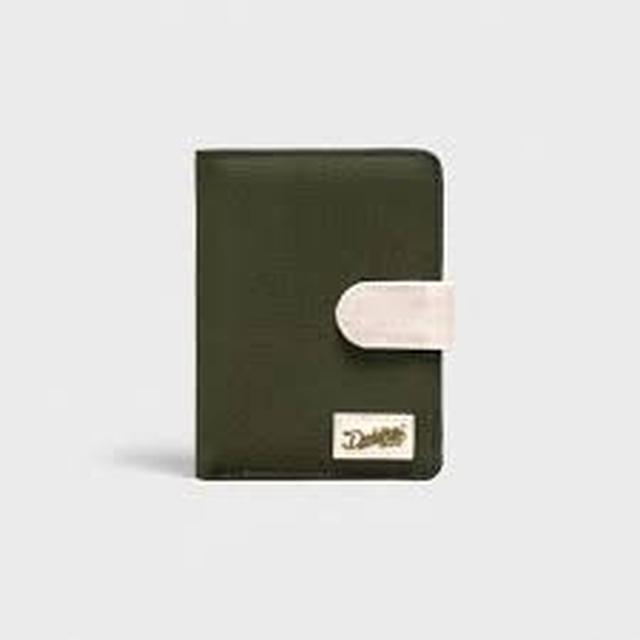wallet: (176, 128, 461, 506)
